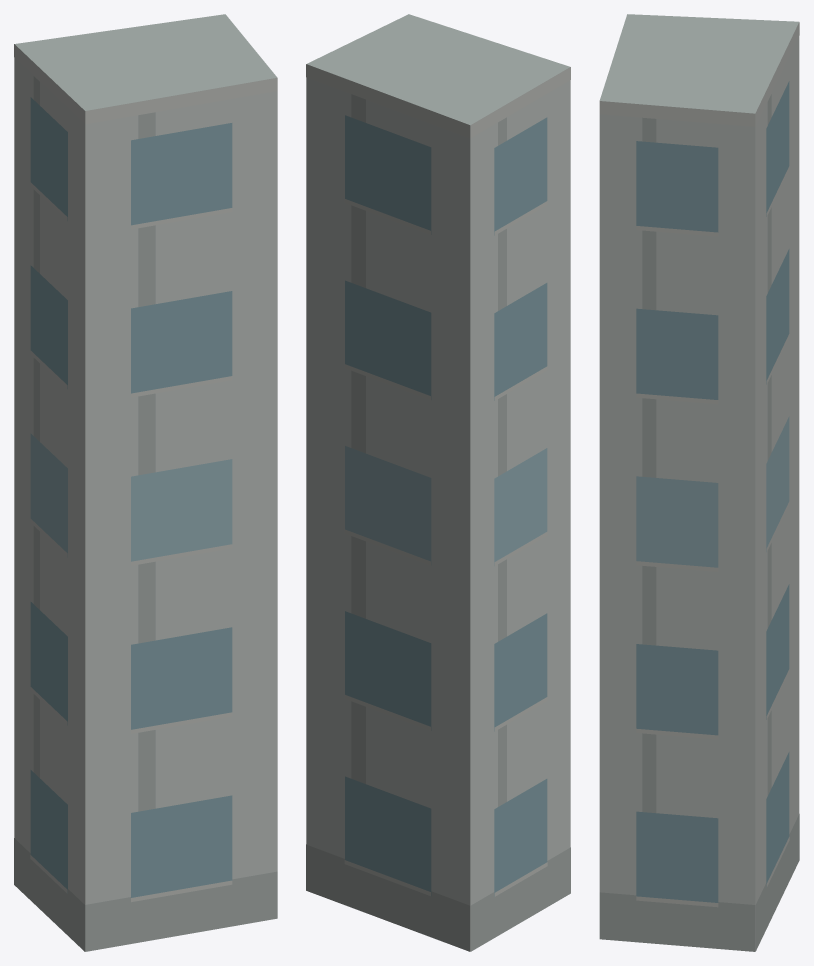
Rendered from survey-upis-32697817.glb.
The picture shows the model from 3 angles, left to right: view 1: azimuth 30°, elevation 25°; view 2: azimuth 150°, elevation 25°; view 3: azimuth 270°, elevation 25°; orthographic projection.
Parts seen in each view (by area): view 1: survey-upis-32697817.tmp; view 2: survey-upis-32697817.tmp; view 3: survey-upis-32697817.tmp.
Boxes of the visible parts, left/top/right/bottom form: survey-upis-32697817.tmp: left=14, top=14, right=277, bottom=951; survey-upis-32697817.tmp: left=306, top=14, right=570, bottom=951; survey-upis-32697817.tmp: left=599, top=14, right=799, bottom=951.
Bounding box in the file's own units: 3.89 × 15.25 × 3.31.
